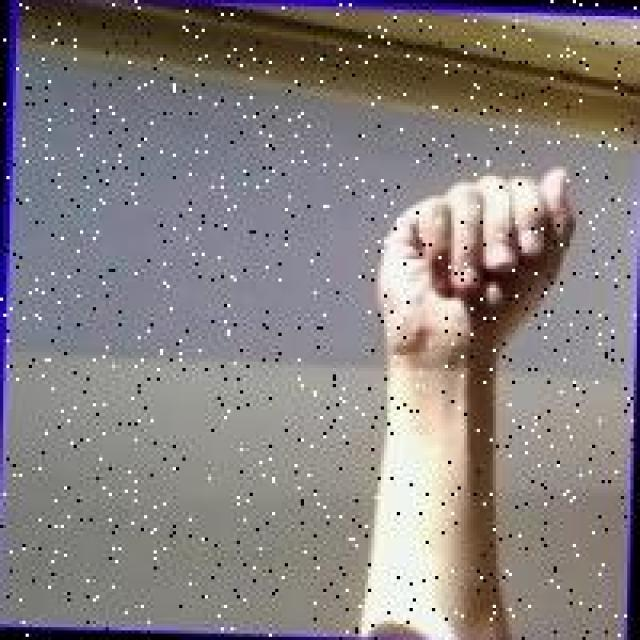A: (376, 158, 578, 424)
